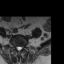CCS_normal: (18, 44, 20, 53)
LFS_severe_stenosis: (23, 43, 25, 49)
LLS_normal: (20, 44, 23, 51)
RFS_severe_stenosis: (13, 43, 15, 49)
RLS_normal: (15, 44, 18, 51)
